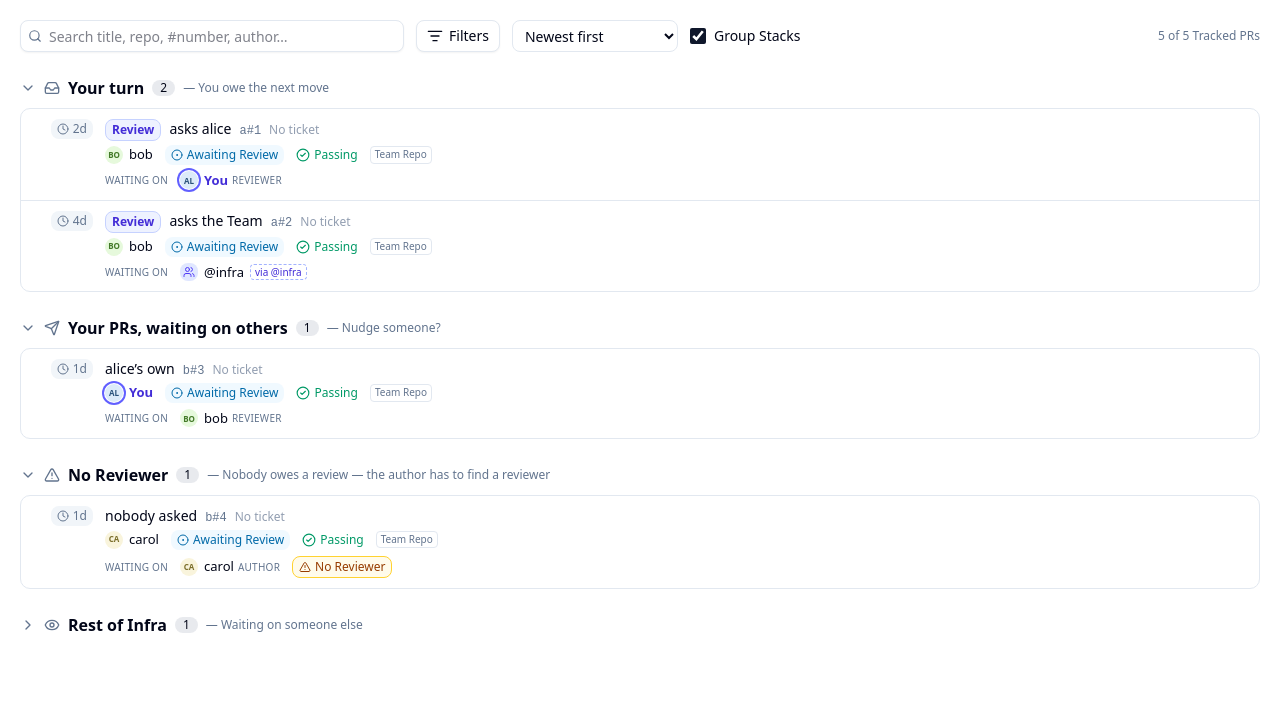
Test: the Inbox below 1280px › its filters › hide behind a Filters button that opens them in a side panel
Click the button "Filters" at (458, 36), box 416,20 -> 500,52
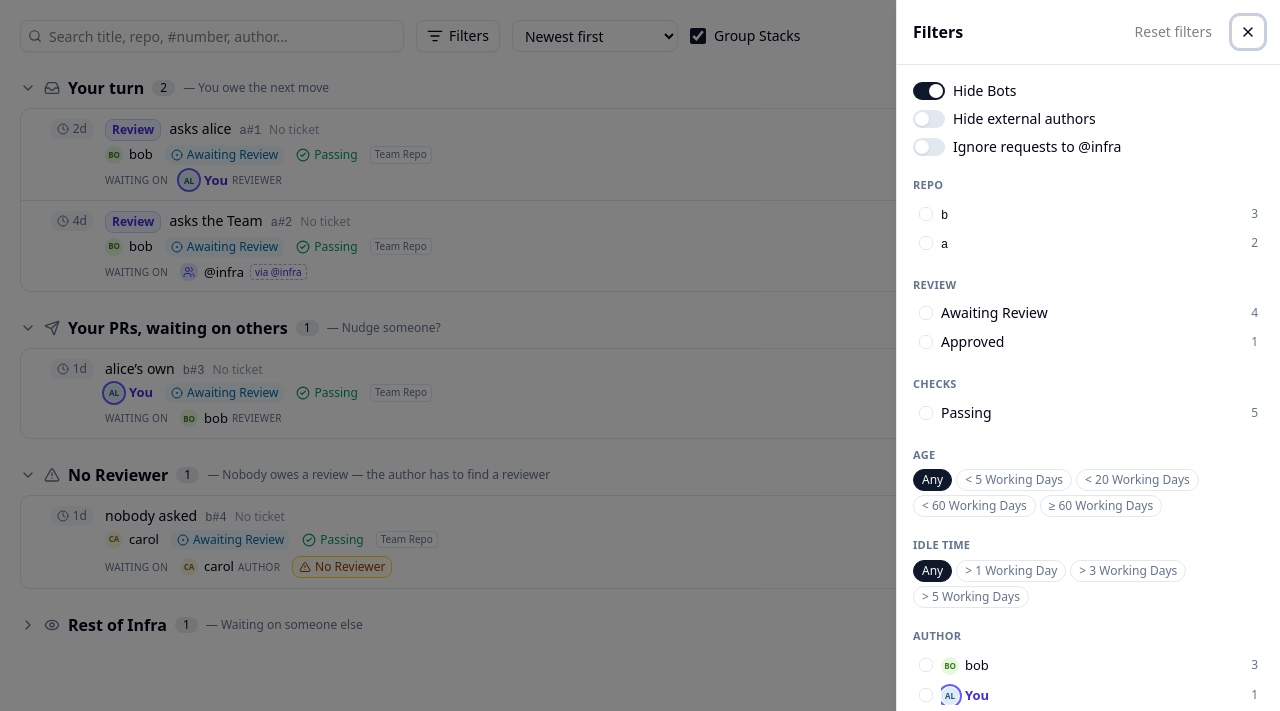
Expected: the switch labelled "Hide Bots" is shown, 913,81 -> 1016,101
Expected: the button "< 5 Working Days" is shown, 956,469 -> 1072,491
Expected: the button "> 3 Working Days" is shown, 1070,560 -> 1186,582
